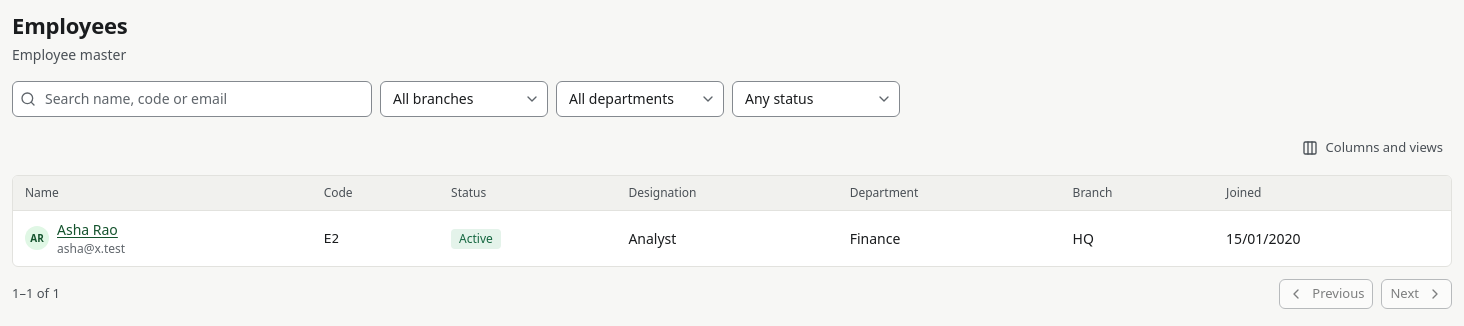
employee list › filters and search go to the server; an empty result says what to try
Check: the table named "Employees" is shown, box [13, 176, 1451, 266]
Select "HQ" in the 1st dropdown named "Branch" at (464, 98), box [380, 80, 548, 116]
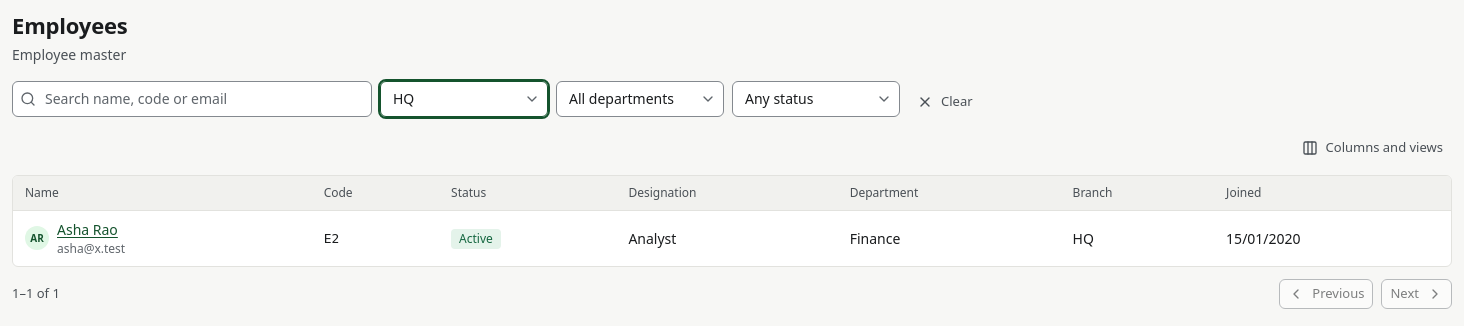
Select "Finance" in the 2nd dropdown named "Department" at (640, 98), box [556, 80, 724, 116]
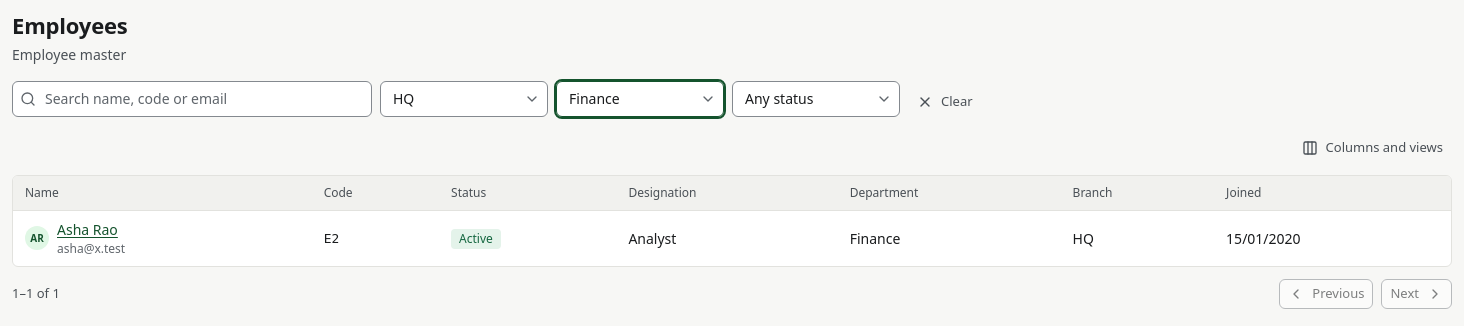
Select "Exited" in the 3rd dropdown named "Status" at (816, 98), box [732, 80, 900, 116]
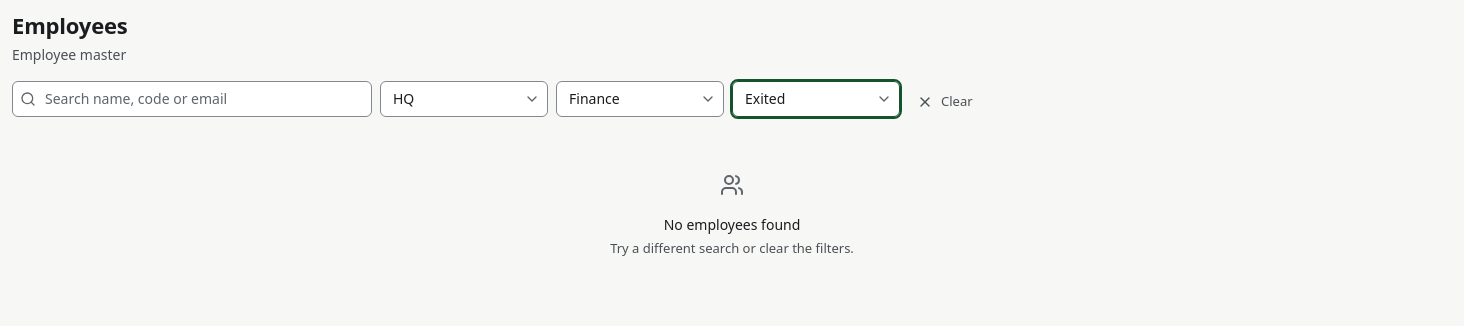
Check: the text "Try a different search or clear the filters." is shown, box [610, 238, 854, 258]
Click the button "Clear" at (945, 102), box [908, 86, 982, 116]
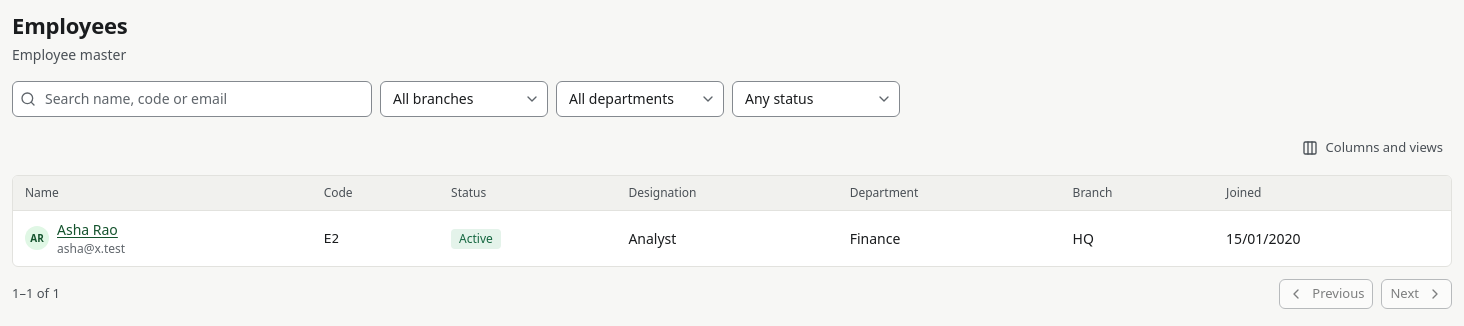
Check: the table named "Employees" is shown, box [13, 176, 1451, 266]
Type " zzz " into the search field named "Search employees" at (192, 98), box [12, 80, 372, 116]
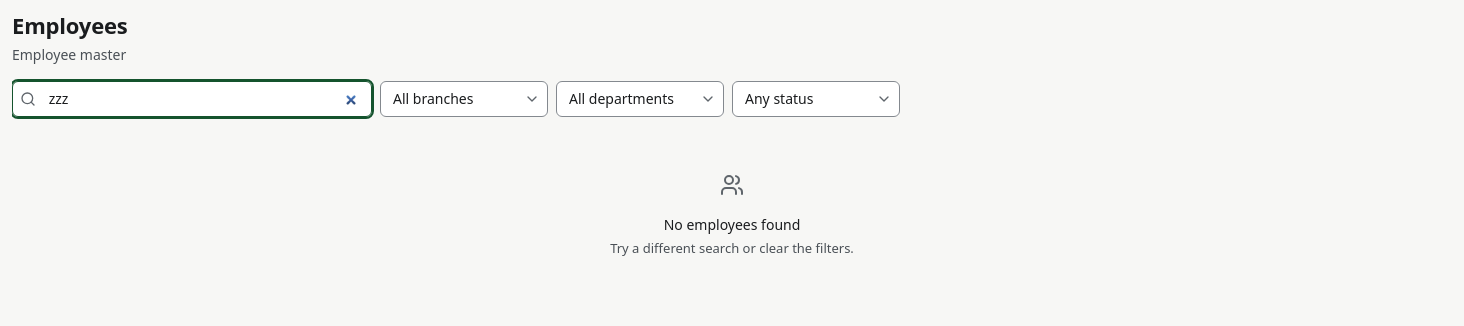
Check: the text "No employees found" is shown, box [664, 214, 800, 234]
